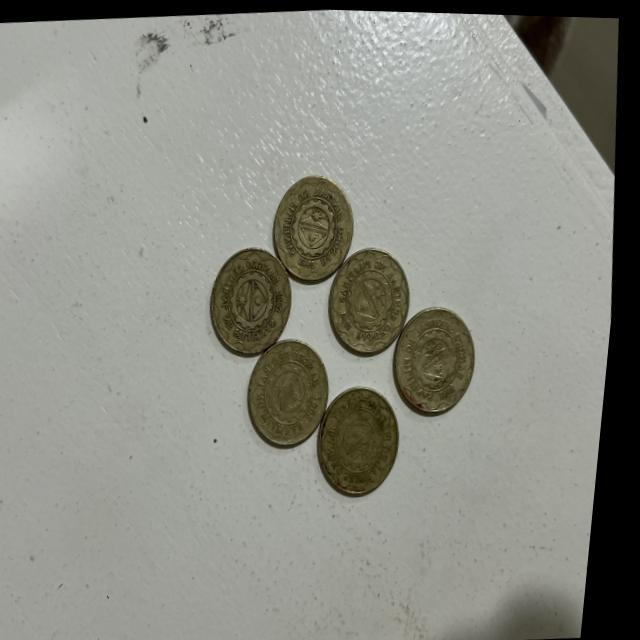5_Old_Back: (385, 303, 491, 425), (241, 333, 351, 446), (264, 169, 364, 287), (205, 237, 302, 358), (332, 245, 428, 358), (318, 382, 411, 494)
